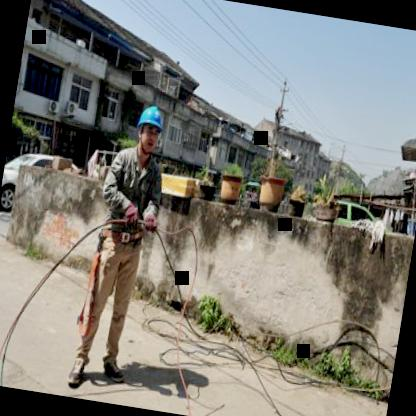helmet: (130, 97, 170, 159)
